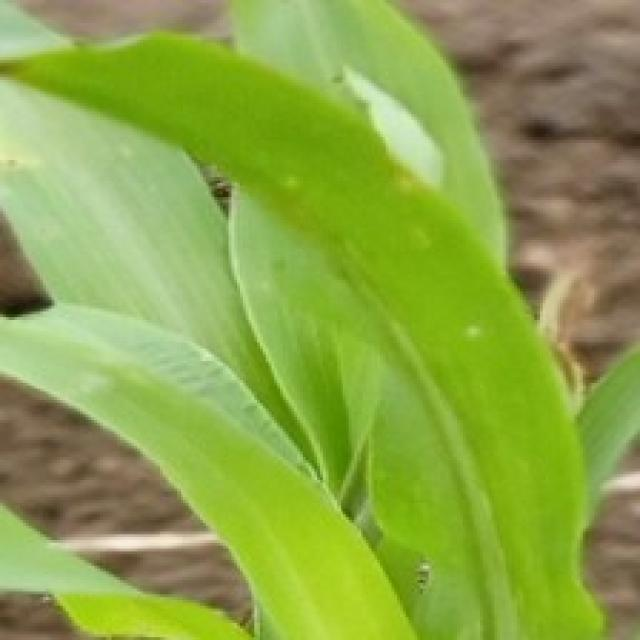Corn: (0, 0, 637, 637), (0, 297, 431, 637), (222, 0, 508, 271)
